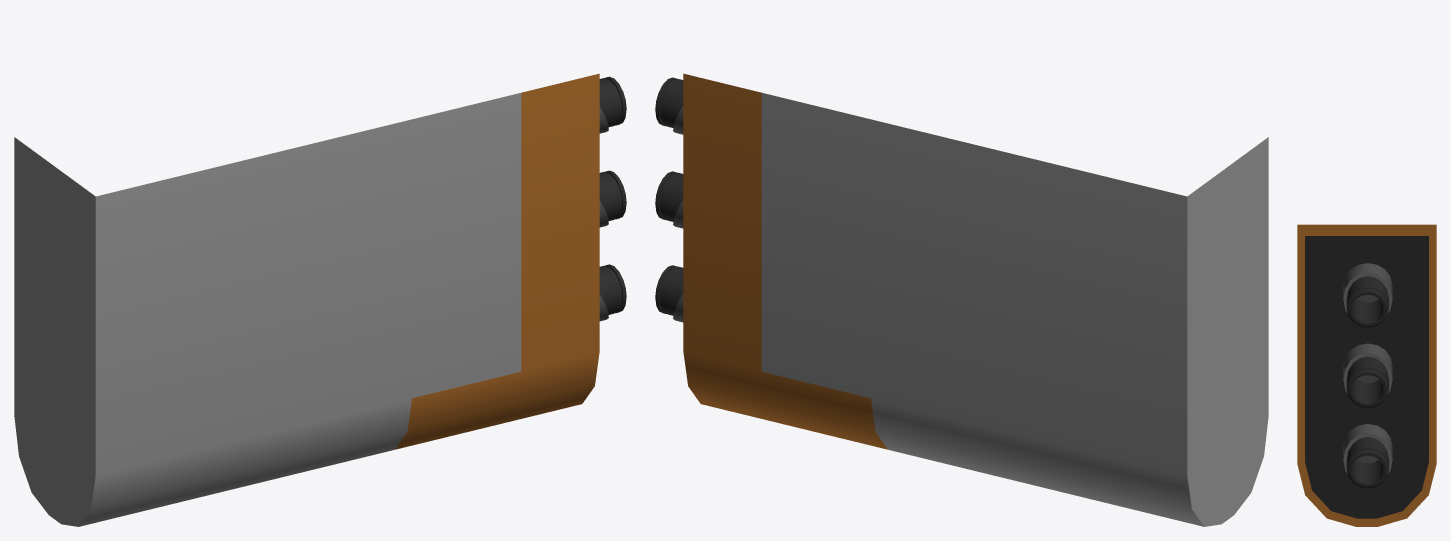
Rendered from quaternius-modular-sci-fi-guns-barrel-ar-3.glb.
3 renders of one model, left to right at view 1: azimuth 30°, elevation 25°; view 2: azimuth 150°, elevation 25°; view 3: azimuth 270°, elevation 25°, orthographic. The views are drawn at different scales.
Visible parts, largest first — view 1: Barrel_AR_3; view 2: Barrel_AR_3; view 3: Barrel_AR_3.
Part boxes in pixels (box(x1,y1,x2,y2)): Barrel_AR_3: box(14, 73, 626, 526); Barrel_AR_3: box(655, 73, 1268, 526); Barrel_AR_3: box(1297, 224, 1436, 526).
Size of the model in its own units: 0.3952 by 0.2376 by 0.0993.
